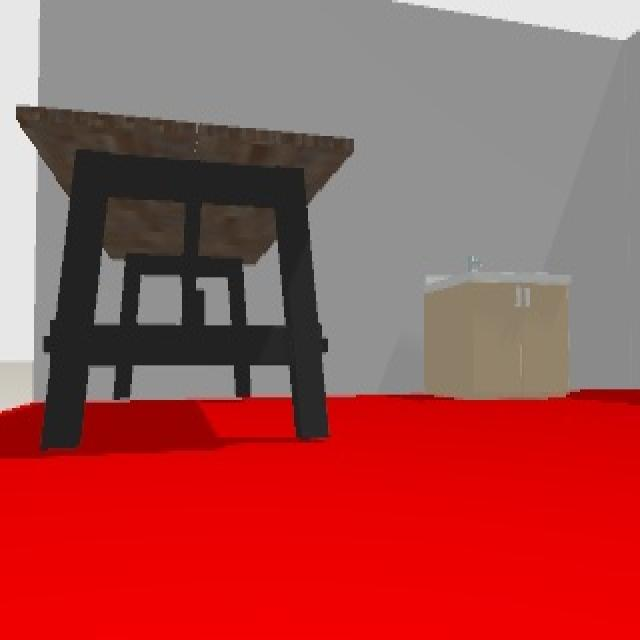dining: (16, 101, 360, 442)
